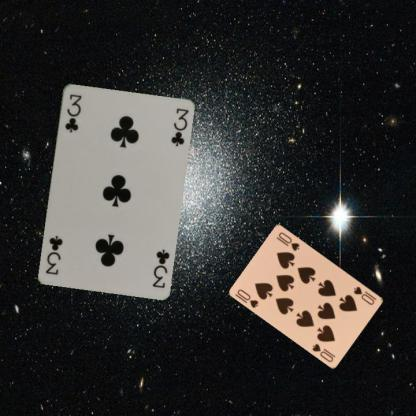10s: (235, 286, 260, 310), (351, 284, 376, 306)
3c: (149, 246, 171, 290), (62, 92, 82, 134)
